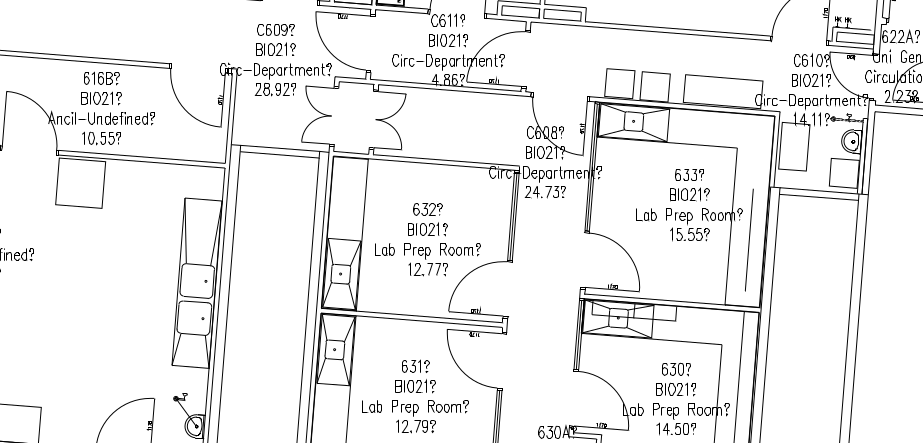door: (161, 65, 225, 133), (95, 375, 159, 443), (438, 328, 502, 396), (441, 250, 505, 318), (583, 225, 647, 293), (573, 363, 637, 431), (1, 87, 64, 155), (309, 8, 367, 75), (466, 27, 524, 87), (530, 97, 588, 157), (819, 49, 877, 104), (372, 90, 416, 153), (297, 84, 341, 147)
